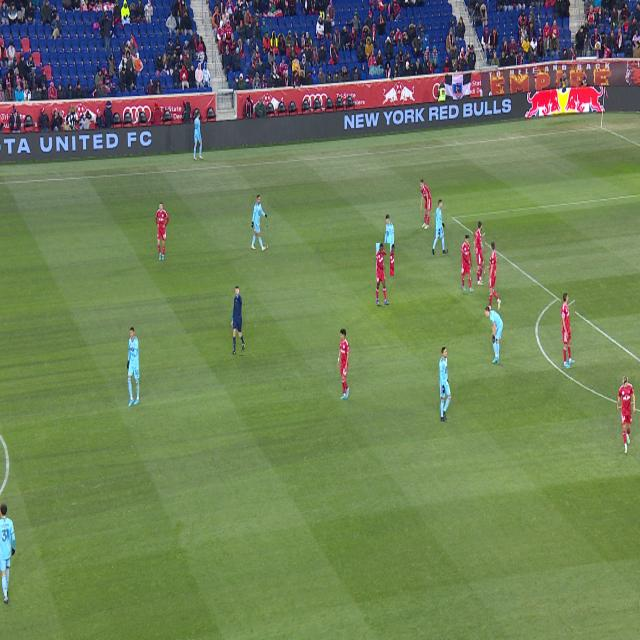player: (0, 502, 16, 604), (617, 376, 635, 454), (485, 307, 504, 363), (127, 327, 140, 407), (561, 294, 575, 367), (439, 347, 451, 422), (488, 242, 501, 310), (376, 244, 390, 305), (337, 329, 349, 399), (252, 196, 267, 252), (155, 203, 169, 260), (433, 200, 447, 255), (473, 221, 485, 285), (461, 235, 474, 293), (384, 215, 394, 276), (420, 179, 432, 229)
referee: (231, 287, 245, 355)
